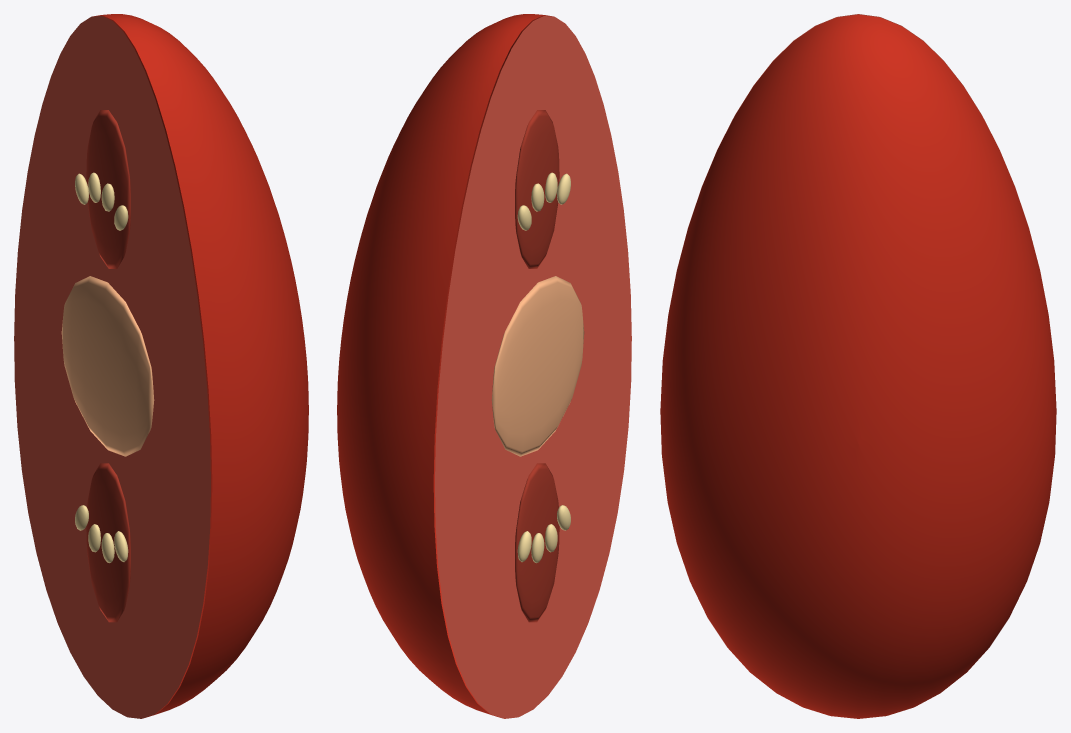
File: roma_half.glb
The picture shows the model from 3 angles, left to right: view 1: azimuth 30°, elevation 25°; view 2: azimuth 150°, elevation 25°; view 3: azimuth 270°, elevation 25°; orthographic projection.
Parts seen in each view (by area): view 1: Cut flesh, Prepared right half, Pale central core, Seed chamber, Seed chamber.001; view 2: Cut flesh, Prepared right half, Pale central core, Seed chamber, Seed chamber.001; view 3: Prepared right half, Cut flesh.
Part boxes in pixels (left/top/right/bottom): Cut flesh: left=14, top=16, right=210, bottom=718; Prepared right half: left=92, top=14, right=308, bottom=717; Pale central core: left=61, top=276, right=154, bottom=456; Seed chamber: left=86, top=110, right=130, bottom=268; Seed chamber.001: left=86, top=463, right=130, bottom=622; Cut flesh: left=435, top=16, right=631, bottom=718; Prepared right half: left=337, top=14, right=553, bottom=717; Pale central core: left=491, top=276, right=584, bottom=456; Seed chamber: left=515, top=110, right=559, bottom=268; Seed chamber.001: left=515, top=463, right=559, bottom=622; Prepared right half: left=660, top=14, right=1056, bottom=718; Cut flesh: left=663, top=14, right=1053, bottom=357.
Bounding box in the file's own units: 0.4501 × 1.56 × 0.81.
